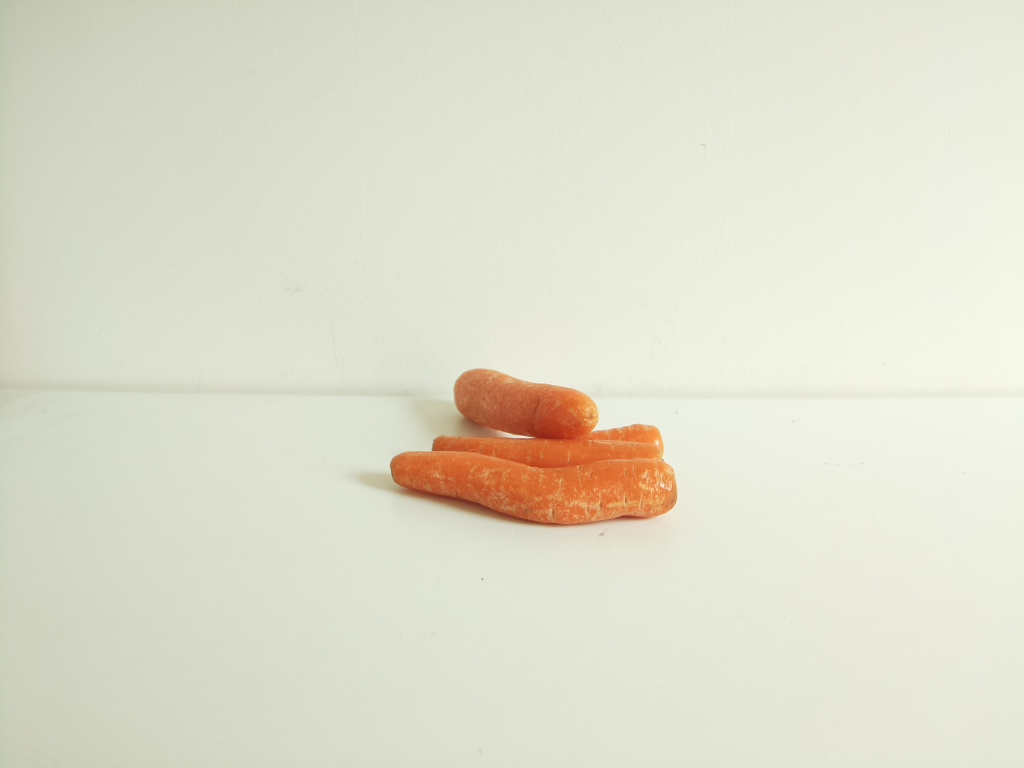carrot: (389, 370, 680, 524)
